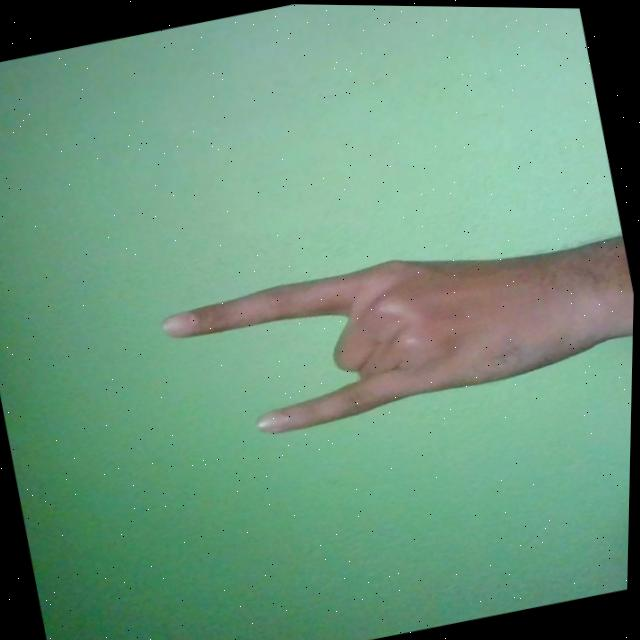Rock On: (157, 208, 636, 453)
